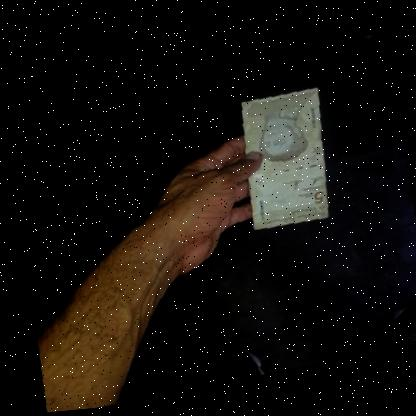five-front-vef: (224, 83, 344, 244)
